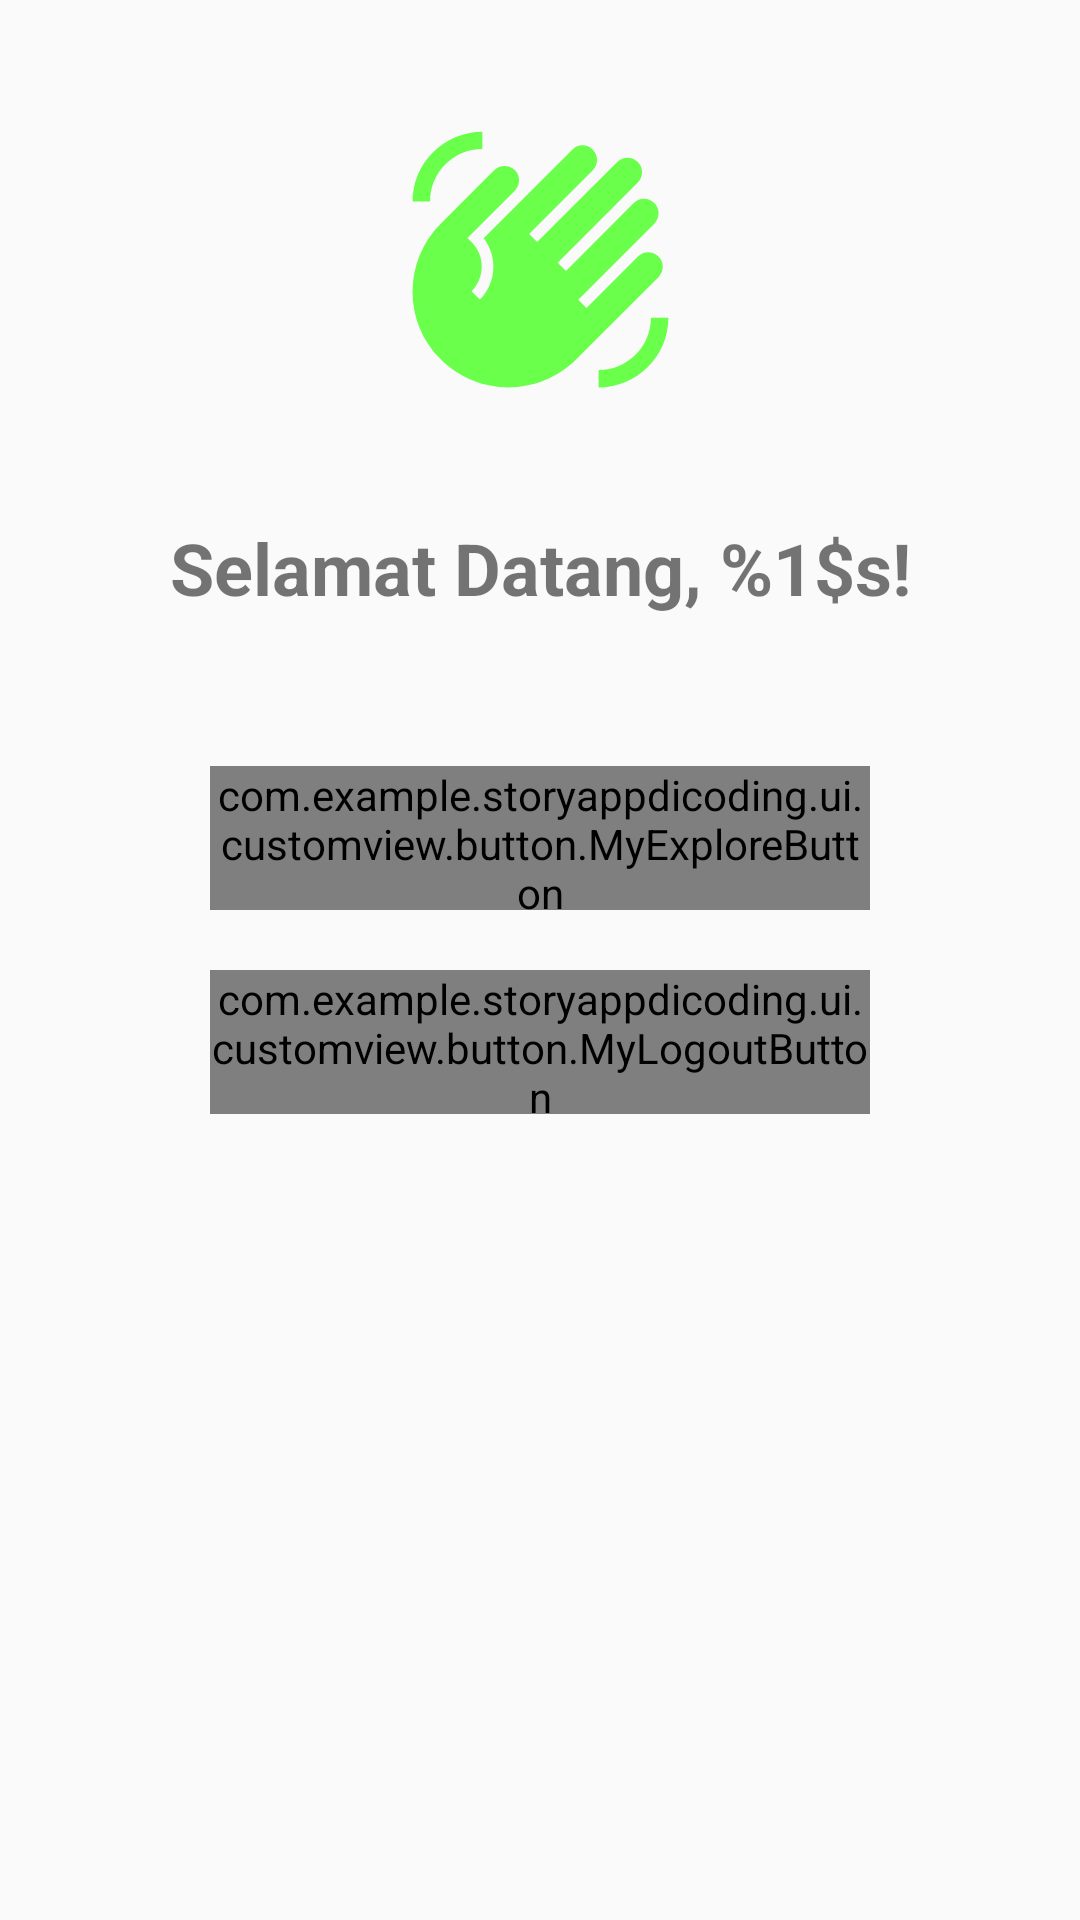

Named icons in this screenshot (1080 × 1920) and their centers, (x,y):
waving hand: (540,259)
